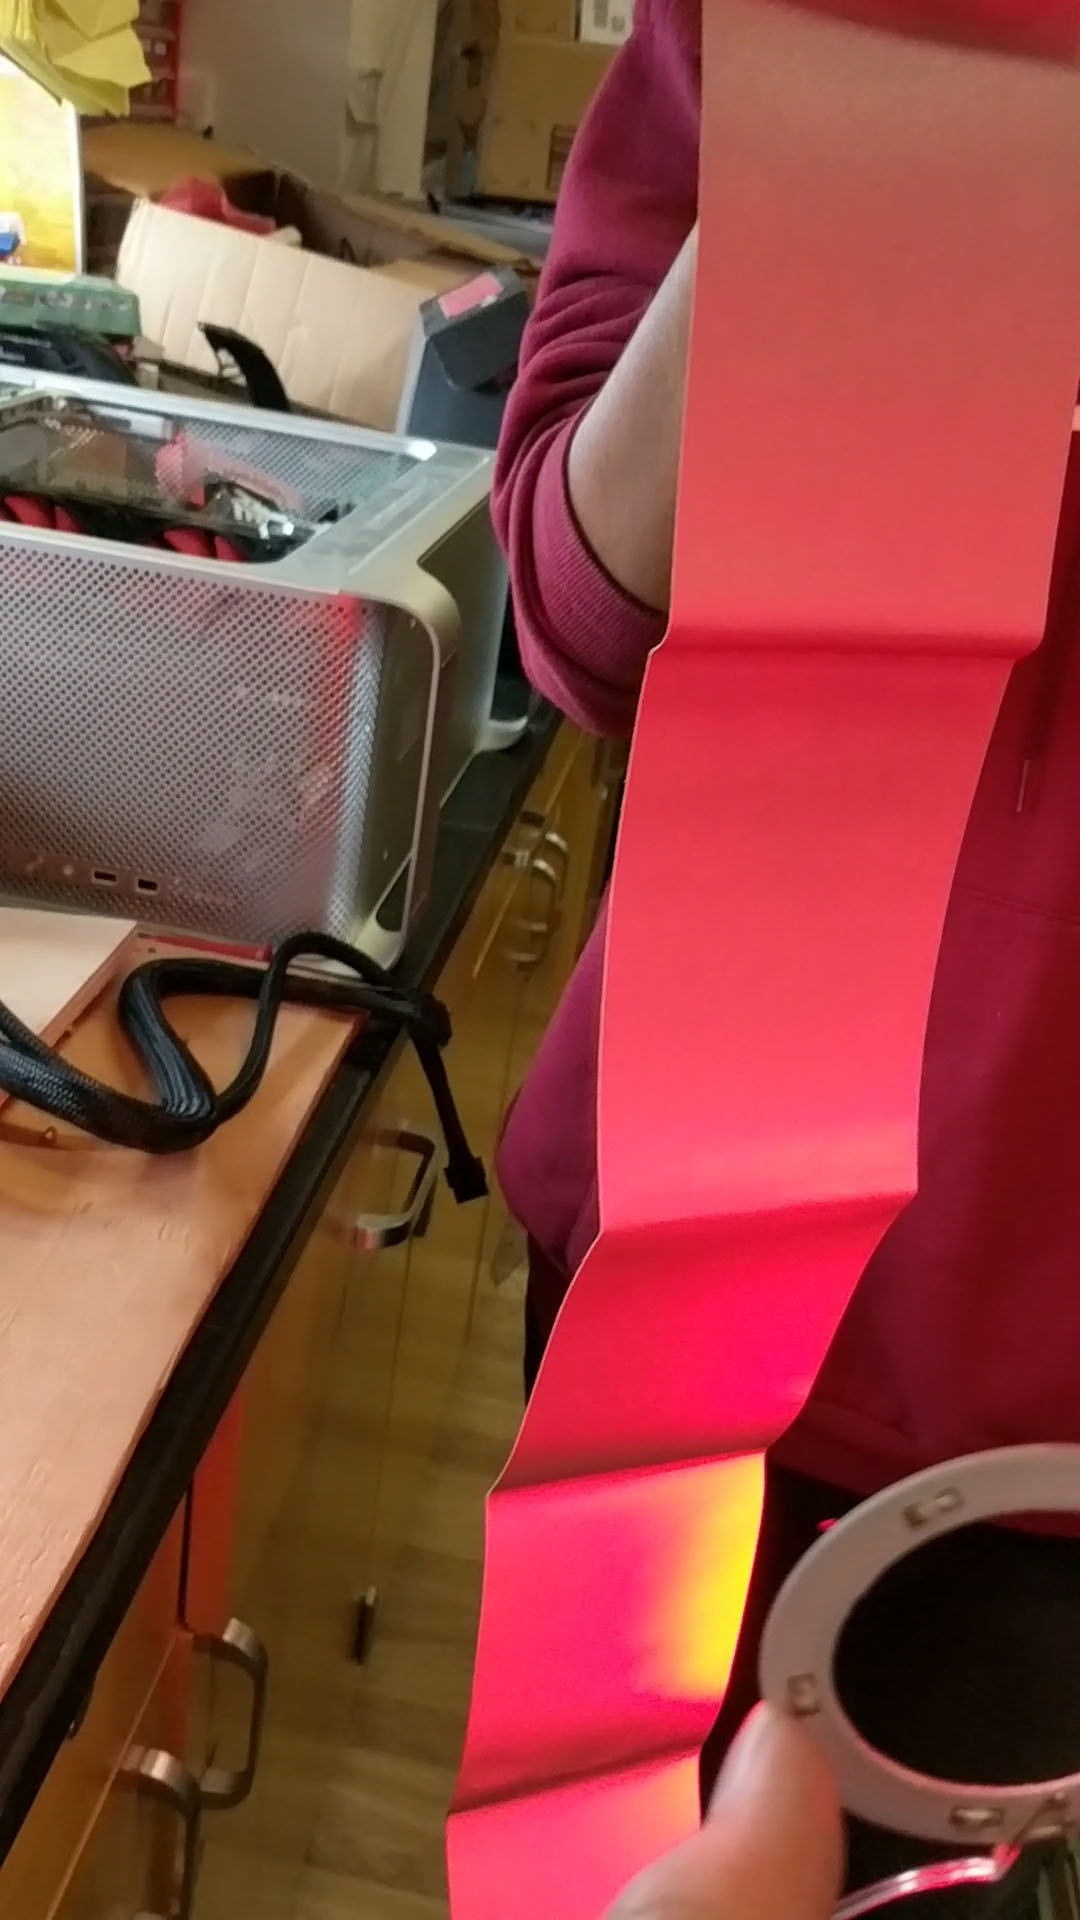gear: (500, 0, 940, 1920)
